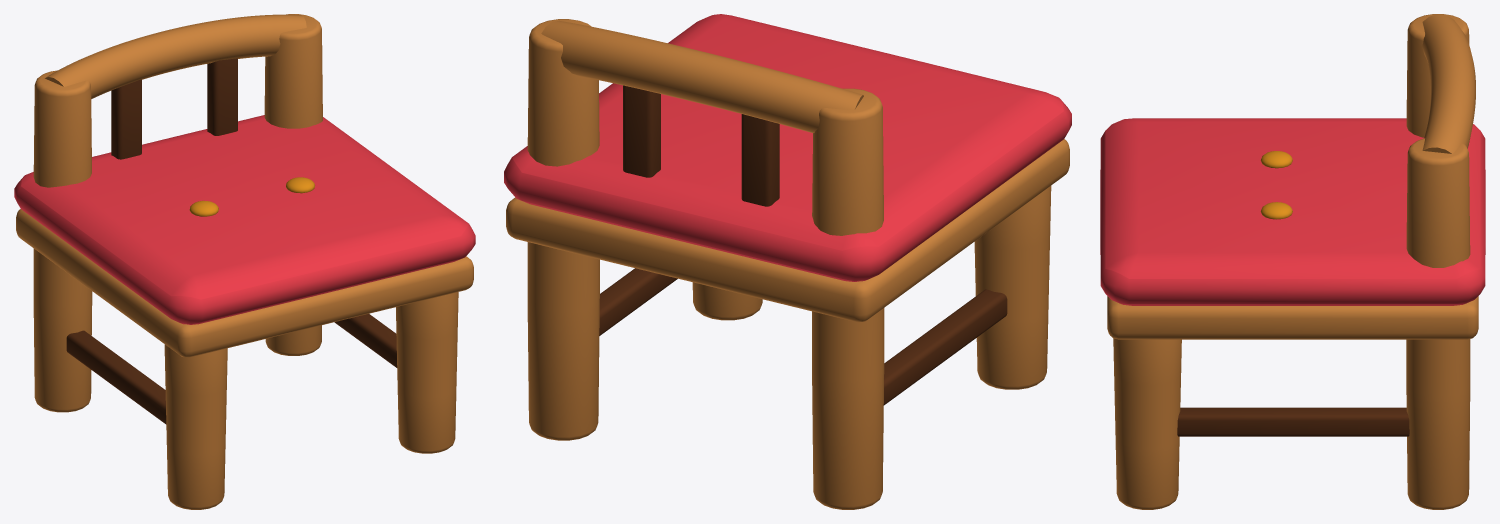
The model's file is chair.glb.
3 views of the same model, side by side, from view 1: azimuth 30°, elevation 25°; view 2: azimuth 150°, elevation 25°; view 3: azimuth 270°, elevation 25° (orthographic). The views are drawn at different scales.
Parts seen in each view (by area): view 1: ChairLegFL; view 2: ChairLegFL; view 3: ChairLegFL.
Part boxes in pixels (bbox=[...]): ChairLegFL: bbox=[14, 14, 475, 509]; ChairLegFL: bbox=[504, 14, 1071, 509]; ChairLegFL: bbox=[1100, 14, 1485, 509].
Bounding box in the file's own units: 0.4772 × 0.503 × 0.4772.
